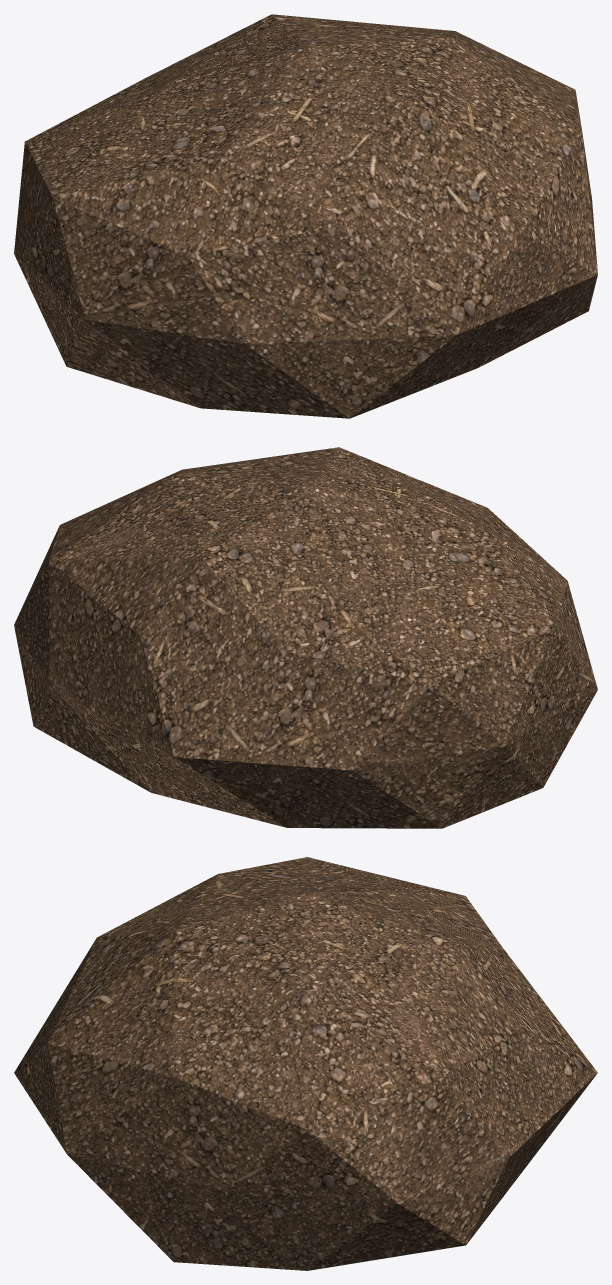
Rendered from Rock_05.fbx.
3 renders of one model, top to bottom at view 1: azimuth 30°, elevation 25°; view 2: azimuth 150°, elevation 25°; view 3: azimuth 270°, elevation 25°, orthographic. The views are drawn at different scales.
Parts seen in each view (by area): view 1: HW_Rock_05_Export; view 2: HW_Rock_05_Export; view 3: HW_Rock_05_Export.
Part boxes in pixels (x1,y1,x2,y2): HW_Rock_05_Export: (14,14,597,418); HW_Rock_05_Export: (14,447,597,828); HW_Rock_05_Export: (14,857,597,1270).
Size of the model in its own units: 128 by 64.28 by 123.
Materials: 1 (1 with a texture image).
